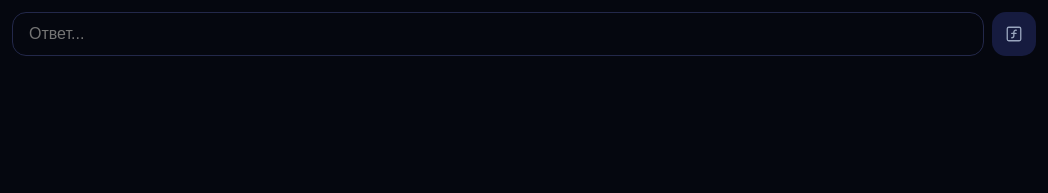
Test case: MathAnswerField › inserts a fraction slash literally, matching real correctAnswer conventions (e.g. "36/25")
Click the button named "Математические символы" at (1014, 34), box [992,12,1036,56]
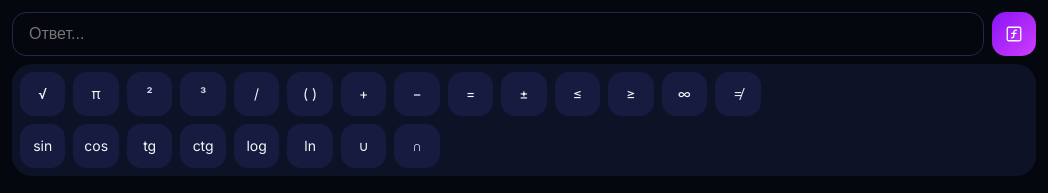
Type "1" into the field labelled "Ответ" at (498, 34), box [12,12,984,56]
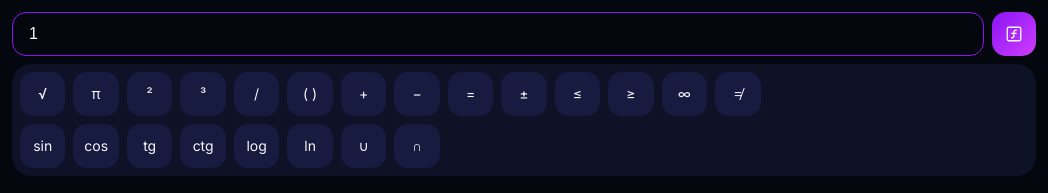
Click the button "/" at (257, 94), box [234,72,279,116]
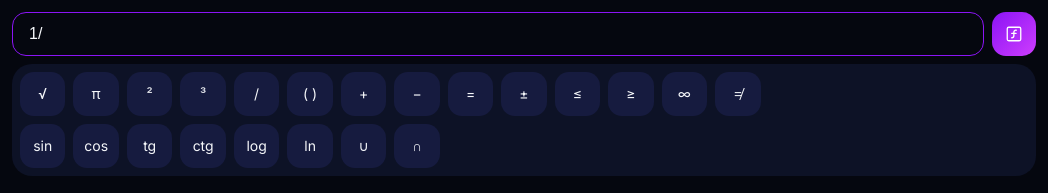
Type "2" into the field named "Ответ" at (498, 34), box [12,12,984,56]
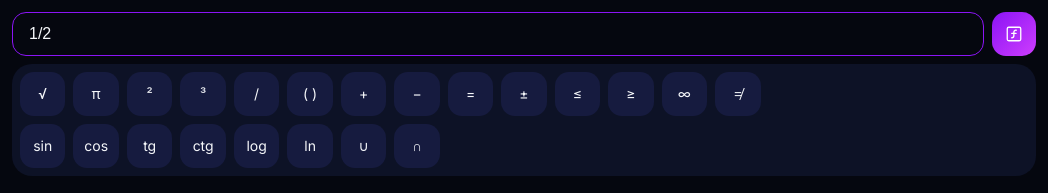
Result: the field named "Ответ" holds "1/2" at [12,12,984,56]
